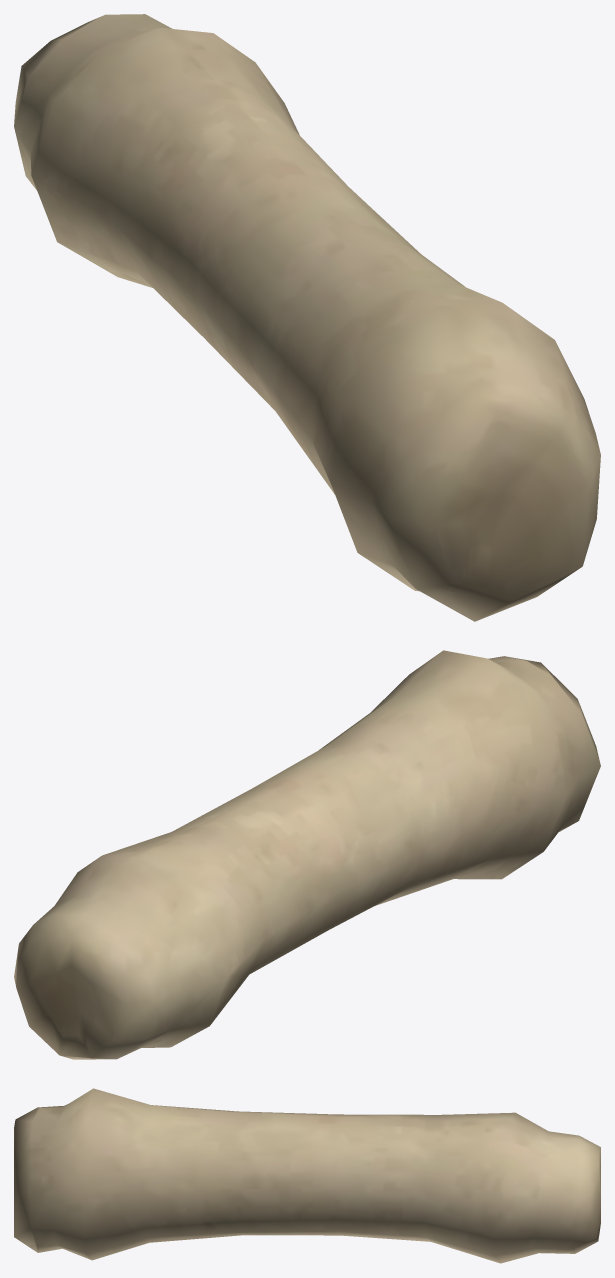
Rendered from Caudal_Vertebrae15.glb.
The picture shows the model from 3 angles, top to bottom: view 1: azimuth 30°, elevation 25°; view 2: azimuth 150°, elevation 25°; view 3: azimuth 270°, elevation 25°; orthographic projection. The views are drawn at different scales.
Visible parts, largest first — view 1: Caudal_Vertebrae_34:Group7835; view 2: Caudal_Vertebrae_34:Group7835; view 3: Caudal_Vertebrae_34:Group7835.
Part boxes in pixels (x1,y1,x2,y2): Caudal_Vertebrae_34:Group7835: [14, 14, 600, 621]; Caudal_Vertebrae_34:Group7835: [14, 650, 600, 1059]; Caudal_Vertebrae_34:Group7835: [14, 1088, 600, 1263].
Bounding box in the file's own units: 5.1 × 4.48 × 15.
Materials: 1 (1 with a texture image).
